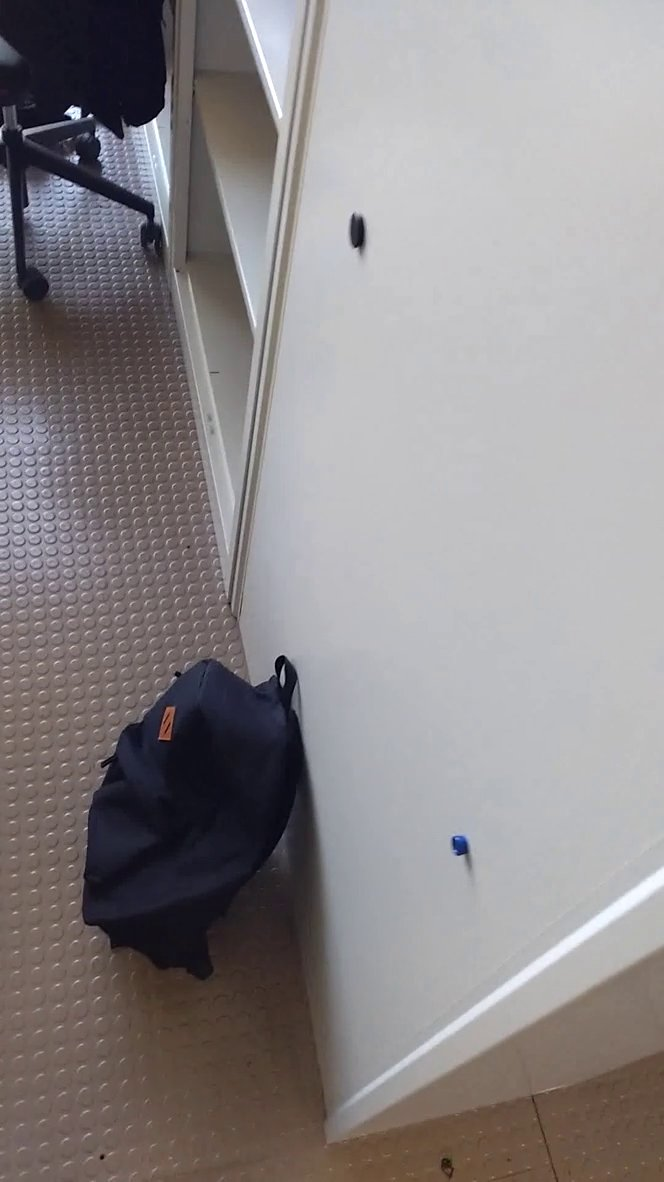bag: (55, 648, 349, 1005)
